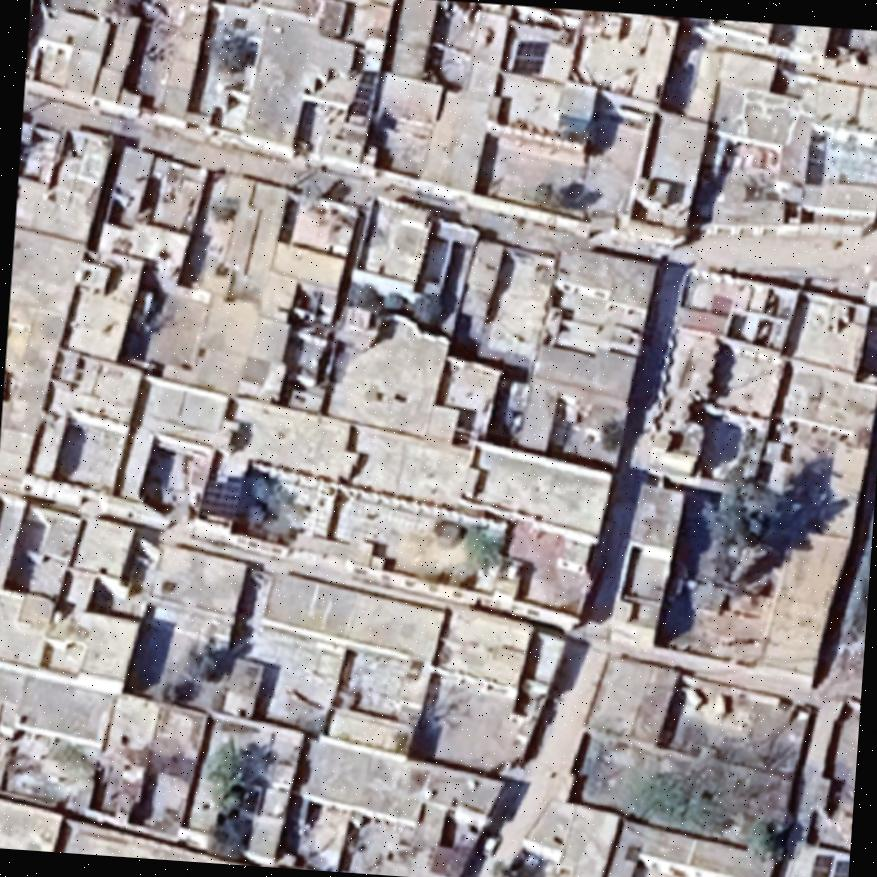Solarpanel: (194, 468, 252, 528), (343, 63, 386, 125), (508, 34, 552, 79), (805, 846, 849, 877)
